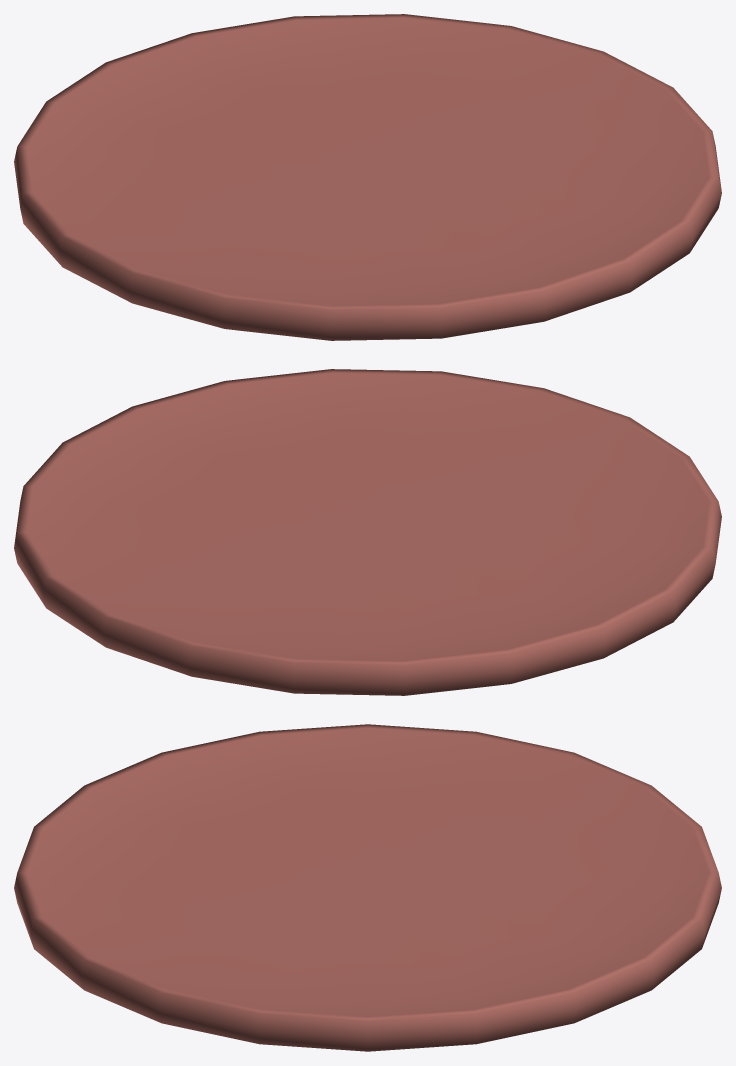
Rendered from 0frisbee.fbx.
3 views of the same model, one above another, from view 1: azimuth 30°, elevation 25°; view 2: azimuth 150°, elevation 25°; view 3: azimuth 270°, elevation 25° (orthographic).
Visible parts, largest first — view 1: frisbee; view 2: frisbee; view 3: frisbee.
Boxes of the visible parts, left/top/right/bottom form: frisbee: left=14, top=14, right=721, bottom=340; frisbee: left=14, top=369, right=721, bottom=695; frisbee: left=14, top=724, right=721, bottom=1051.
Size of the model in its own units: 1.12 by 0.0533 by 1.12.
